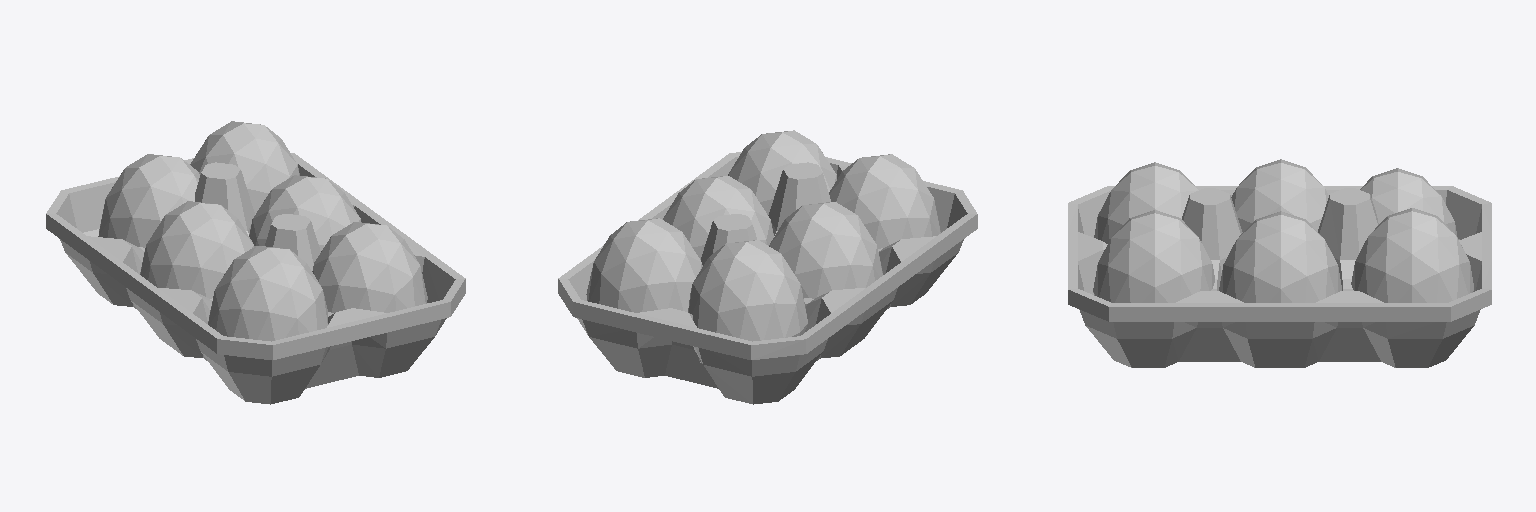
Rendered from Tapa_con_huevos_abierta.obj.
The picture shows the model from 3 angles: view 1: azimuth 30°, elevation 25°; view 2: azimuth 150°, elevation 25°; view 3: azimuth 270°, elevation 25°; orthographic projection.
Visible parts, largest first — view 1: polySurface23; view 2: polySurface23; view 3: polySurface23.
Part boxes in pixels (bbox=[...]): polySurface23: bbox=[46, 121, 465, 404]; polySurface23: bbox=[558, 130, 977, 404]; polySurface23: bbox=[1068, 159, 1491, 367].
Size of the model in its own units: 1.13 by 0.6174 by 1.67.